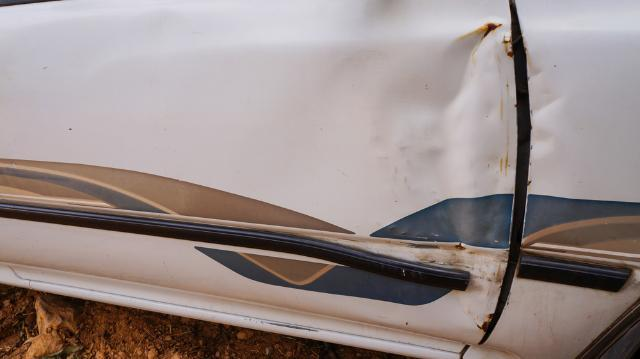dent: (244, 29, 508, 278), (526, 58, 562, 165)
